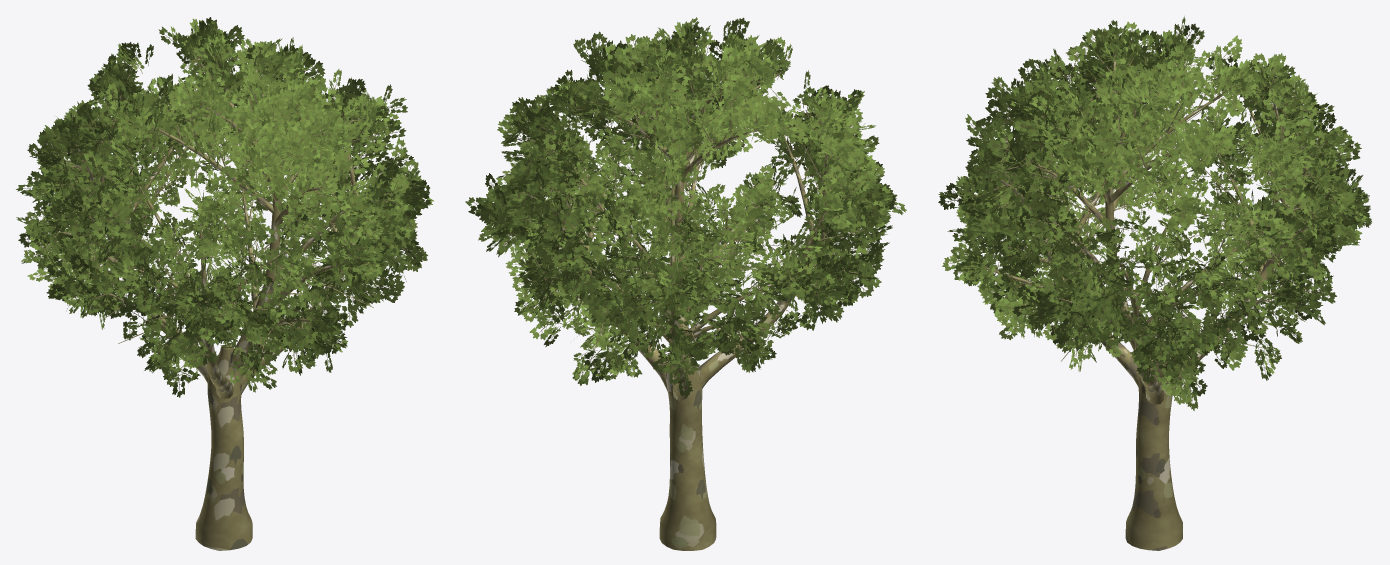
The picture shows the model from 3 angles, left to right: view 1: azimuth 30°, elevation 25°; view 2: azimuth 150°, elevation 25°; view 3: azimuth 270°, elevation 25°; orthographic projection.
Parts seen in each view (by area): view 1: leaves_1, leaves_0, Trunk; view 2: leaves_1, leaves_0, Trunk; view 3: leaves_1, leaves_0, Trunk.
Boxes of the visible parts, x1=… form: leaves_1: x1=16, y1=17, x2=433, y2=358; leaves_0: x1=18, y1=87, x2=425, y2=397; Trunk: x1=43, y1=56, x2=404, y2=550; leaves_1: x1=465, y1=17, x2=906, y2=329; leaves_0: x1=504, y1=79, x2=884, y2=396; Trunk: x1=504, y1=42, x2=866, y2=550; leaves_1: x1=938, y1=16, x2=1371, y2=352; leaves_0: x1=950, y1=68, x2=1359, y2=410; Trunk: x1=973, y1=42, x2=1336, y2=550.
Bounding box in the file's own units: 6.01 × 7.72 × 6.17.
2 materials, 2 textured.
